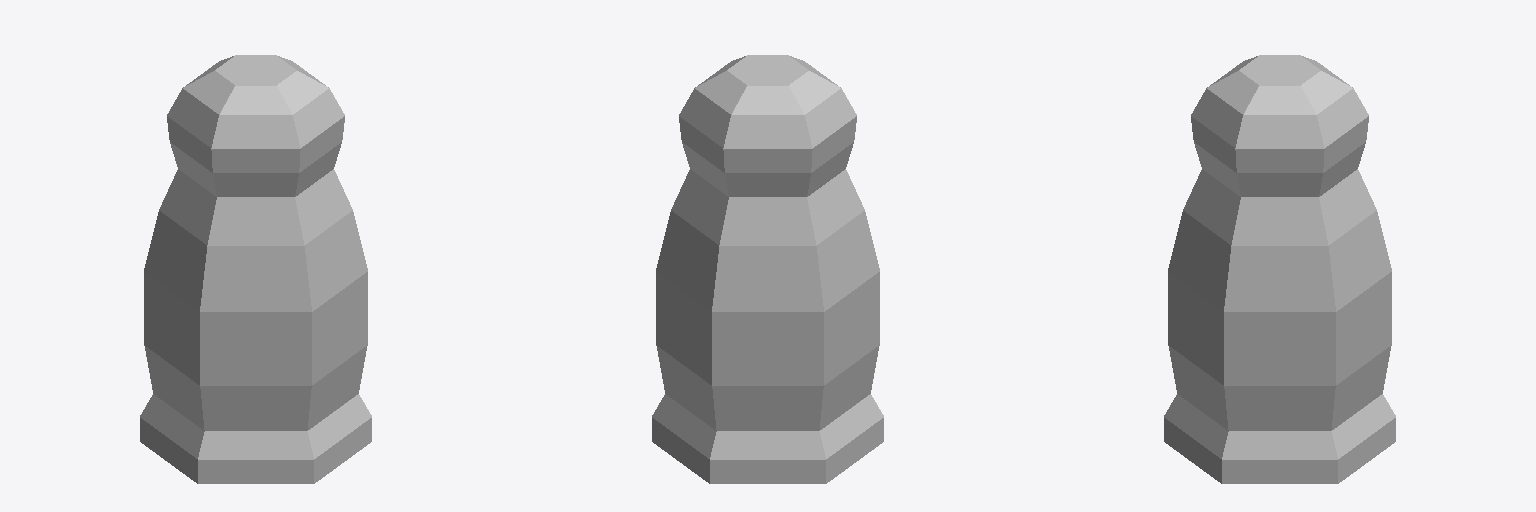
File: bandit.obj
The picture shows the model from 3 angles: view 1: azimuth 30°, elevation 25°; view 2: azimuth 150°, elevation 25°; view 3: azimuth 270°, elevation 25°; orthographic projection.
Parts seen in each view (by area): view 1: Circle.001_Circle.004; view 2: Circle.001_Circle.004; view 3: Circle.001_Circle.004.
Part boxes in pixels (left/top/right/bottom): Circle.001_Circle.004: left=140, top=55, right=371, bottom=483; Circle.001_Circle.004: left=652, top=55, right=883, bottom=483; Circle.001_Circle.004: left=1164, top=55, right=1395, bottom=483.
Size of the model in its own units: 0.433 by 0.8792 by 0.5.